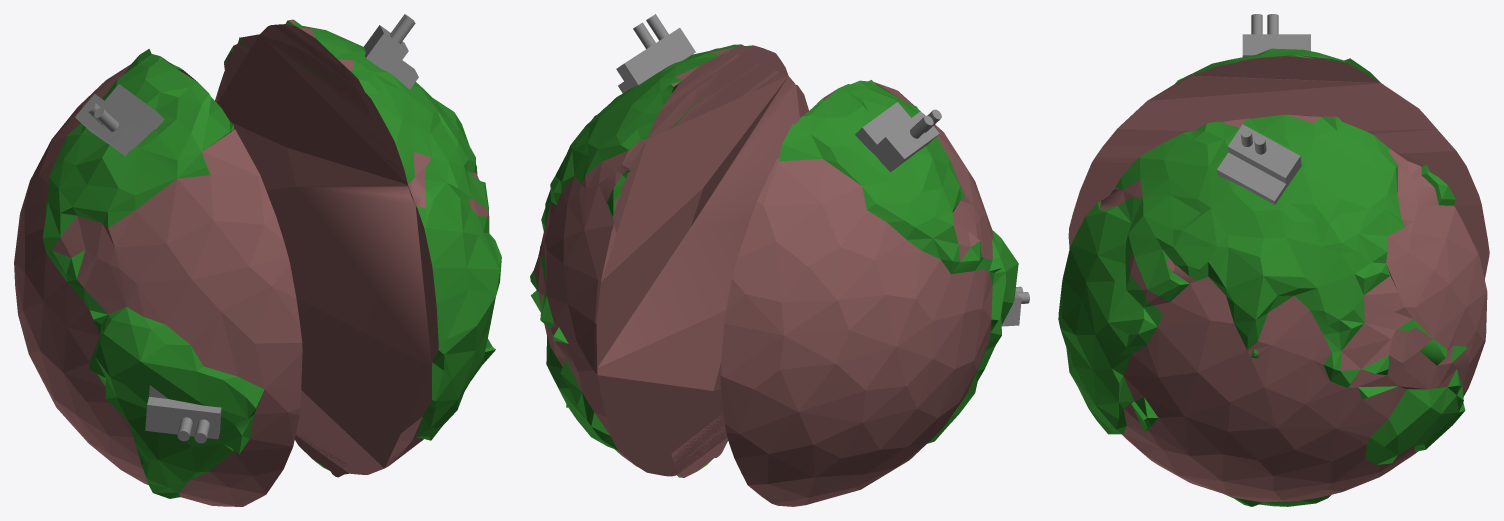
File: earth6.gltf
The picture shows the model from 3 angles, left to right: view 1: azimuth 30°, elevation 25°; view 2: azimuth 150°, elevation 25°; view 3: azimuth 270°, elevation 25°; orthographic projection. The views are drawn at different scales.
Parts seen in each view (by area): view 1: Icosphere001_1, Icosphere001_2, Cube002, Cube003, Cube001; view 2: Icosphere001_1, Icosphere001_2, Cube002, Cube001; view 3: Icosphere001_1, Icosphere001_2, Cube001, Cube002.
Boxes of the visible parts, <box> form: Icosphere001_1: <box>14,19,489,506</box>; Icosphere001_2: <box>42,20,501,498</box>; Cube002: <box>75,84,164,156</box>; Cube003: <box>145,385,221,443</box>; Cube001: <box>364,14,418,89</box>; Icosphere001_1: <box>534,44,993,506</box>; Icosphere001_2: <box>530,44,1018,477</box>; Cube002: <box>855,102,941,172</box>; Cube001: <box>616,14,695,93</box>; Icosphere001_1: <box>1068,55,1489,502</box>; Icosphere001_2: <box>1058,48,1466,506</box>; Cube001: <box>1217,124,1301,204</box>; Cube002: <box>1242,14,1310,56</box>.
Bounding box in the file's own units: 10.06 × 10.18 × 9.7.
